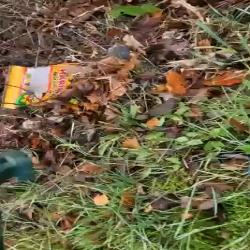plastic: (1, 64, 77, 108)
